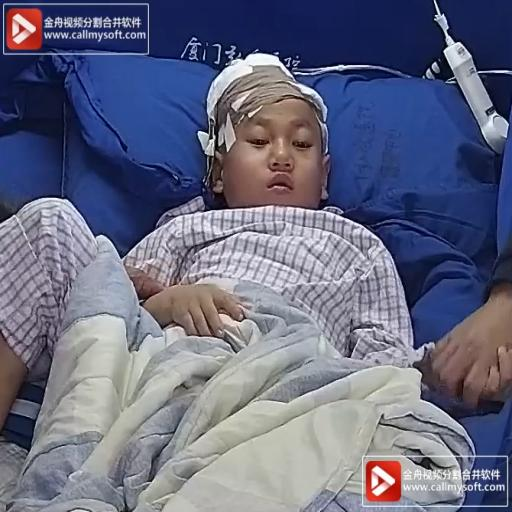Netural: (200, 57, 343, 224)
